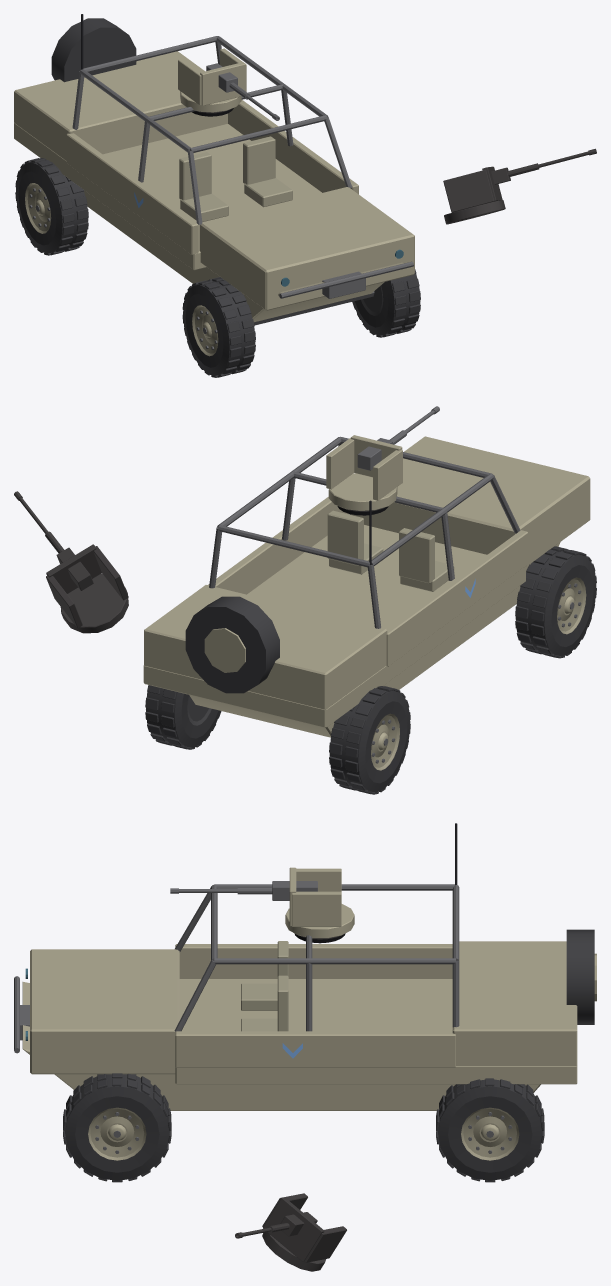
File: reconVehicle__zmag.glb
3 renders of one model, top to bottom at view 1: azimuth 30°, elevation 25°; view 2: azimuth 150°, elevation 25°; view 3: azimuth 270°, elevation 25°, orthographic. The views are drawn at different scales.
Parts seen in each view (by area): view 1: Hull_Mesh, Wheel_L1_Mesh, Wheel_L0_Mesh, Wreck, Wheel_R1_Mesh, Turret_Mesh, Gun_Mesh; view 2: Hull_Mesh, Wheel_L1_Mesh, Wheel_L0_Mesh, Wreck, Turret_Mesh, Wheel_R0_Mesh, Gun_Mesh; view 3: Hull_Mesh, Wheel_R1_Mesh, Wheel_R0_Mesh, Wreck, Turret_Mesh, Gun_Mesh.
Boxes of the visible parts, <box> form: Hull_Mesh: <box>14,14,414,325</box>; Wheel_L1_Mesh: <box>182,277,255,377</box>; Wheel_L0_Mesh: <box>15,158,88,255</box>; Wreck: <box>47,108,596,373</box>; Wheel_R1_Mesh: <box>352,269,420,337</box>; Turret_Mesh: <box>178,48,246,112</box>; Gun_Mesh: <box>206,63,279,120</box>; Hull_Mesh: <box>143,436,590,737</box>; Wheel_L1_Mesh: <box>515,546,596,658</box>; Wheel_L0_Mesh: <box>329,686,410,794</box>; Wreck: <box>14,491,579,748</box>; Turret_Mesh: <box>326,435,402,510</box>; Wheel_R0_Mesh: <box>145,685,221,749</box>; Gun_Mesh: <box>357,406,439,470</box>; Hull_Mesh: <box>14,823,596,1110</box>; Wheel_R1_Mesh: <box>63,1073,171,1182</box>; Wheel_R0_Mesh: <box>436,1078,544,1182</box>; Wreck: <box>98,933,346,1271</box>; Turret_Mesh: <box>285,867,354,938</box>; Gun_Mesh: <box>170,881,317,900</box>.
Size of what is drawn, in the model's own units: 5.31 by 2.75 by 5.38.
